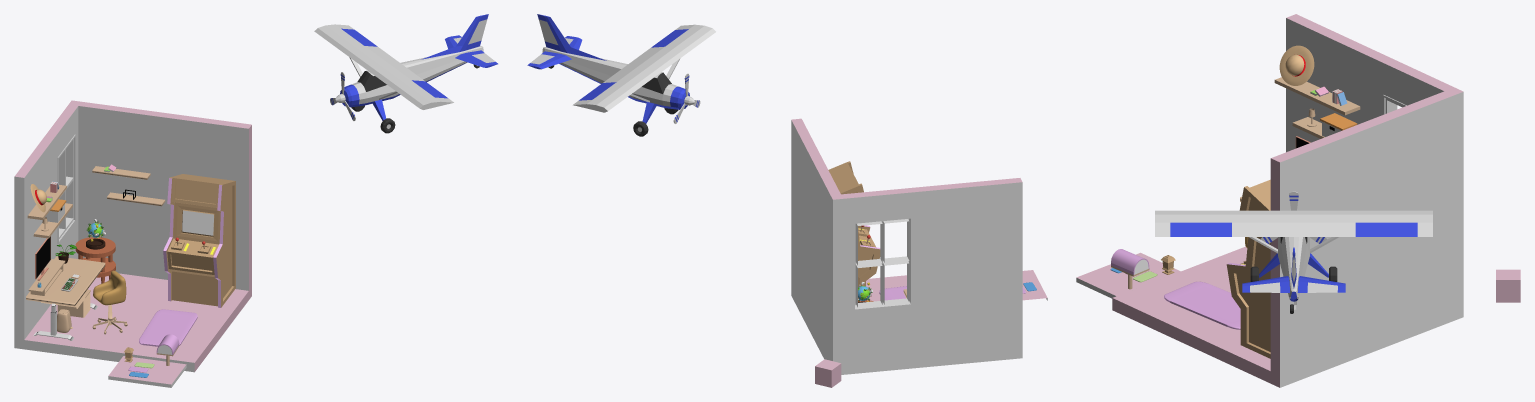
The model's file is chambre6.glb.
The picture shows the model from 3 angles, left to right: view 1: azimuth 30°, elevation 25°; view 2: azimuth 150°, elevation 25°; view 3: azimuth 270°, elevation 25°; orthographic projection. The views are drawn at different scales.
Visible parts, largest first — view 1: Body, Aquarium, Plane, Desks, Shelves, Floor Items, Mini Floor, Table Stuff, Chair, Computer, Mailbox; view 2: Body, Plane, Aquarium, Cube, Mini Floor; view 3: Body, Plane, Aquarium, Shelves, Floor Items, Mini Floor, Cube, Mailbox.
Boxes of the visible parts, x1,y1,x2,y2 form: Body: [14, 100, 251, 372]; Aquarium: [163, 174, 235, 307]; Plane: [314, 14, 497, 133]; Desks: [26, 237, 115, 340]; Shelves: [27, 164, 165, 238]; Floor Items: [57, 289, 197, 346]; Mini Floor: [108, 356, 186, 387]; Table Stuff: [28, 238, 105, 295]; Chair: [93, 270, 126, 305]; Computer: [35, 236, 50, 280]; Mailbox: [156, 334, 179, 365]; Body: [791, 118, 1022, 374]; Plane: [527, 14, 715, 136]; Aquarium: [828, 161, 880, 299]; Cube: [815, 359, 841, 387]; Mini Floor: [1022, 270, 1047, 300]; Body: [1112, 14, 1463, 387]; Plane: [1155, 191, 1432, 313]; Aquarium: [1226, 179, 1270, 358]; Shelves: [1274, 45, 1360, 138]; Floor Items: [1164, 281, 1240, 329]; Mini Floor: [1076, 252, 1180, 298]; Cube: [1496, 269, 1520, 302]; Mailbox: [1111, 249, 1149, 289].
Size of the model in its own units: 57.88 by 25.62 by 35.79.
